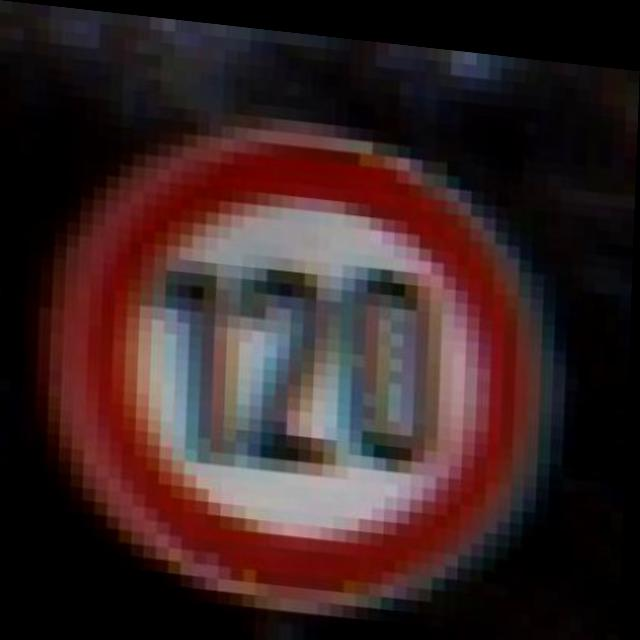limit120: (19, 91, 597, 640)
